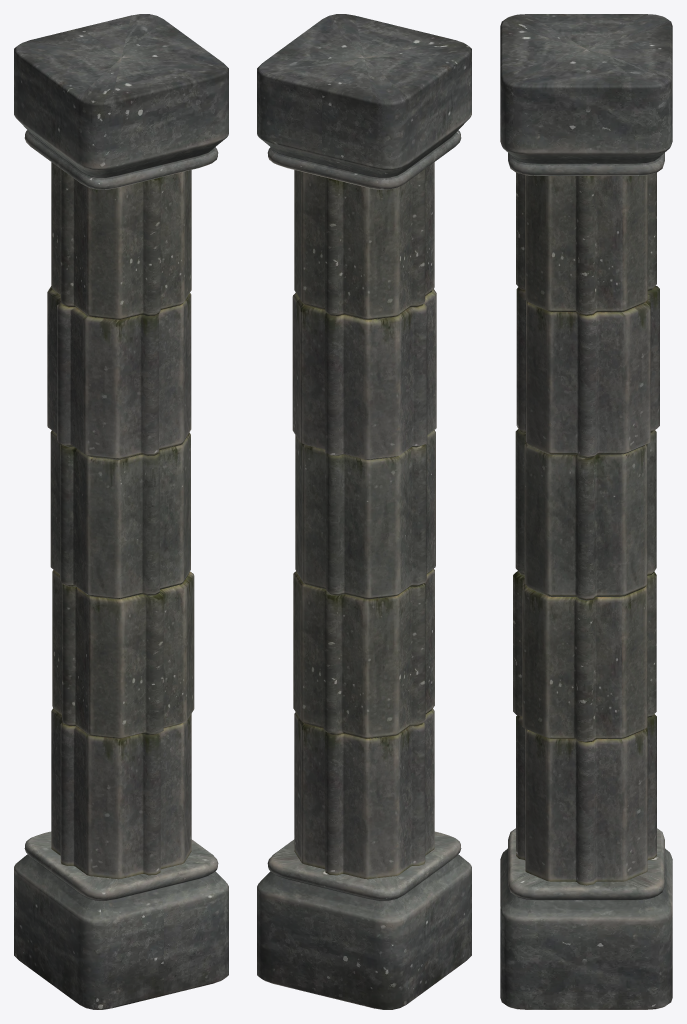
3 renders of one model, left to right at view 1: azimuth 30°, elevation 25°; view 2: azimuth 150°, elevation 25°; view 3: azimuth 270°, elevation 25°, orthographic.
Visible parts, largest first — view 1: SM_SaradominTemple_Pillar_1x4_02_v1_LOD0; view 2: SM_SaradominTemple_Pillar_1x4_02_v1_LOD0; view 3: SM_SaradominTemple_Pillar_1x4_02_v1_LOD0.
Part boxes in pixels (<box>): SM_SaradominTemple_Pillar_1x4_02_v1_LOD0: <box>14,14,228,1009</box>; SM_SaradominTemple_Pillar_1x4_02_v1_LOD0: <box>257,14,471,1009</box>; SM_SaradominTemple_Pillar_1x4_02_v1_LOD0: <box>500,14,672,1009</box>.
Bounding box in the file's own units: 1.66 × 9.75 × 1.65.
1 material, 1 textured.
